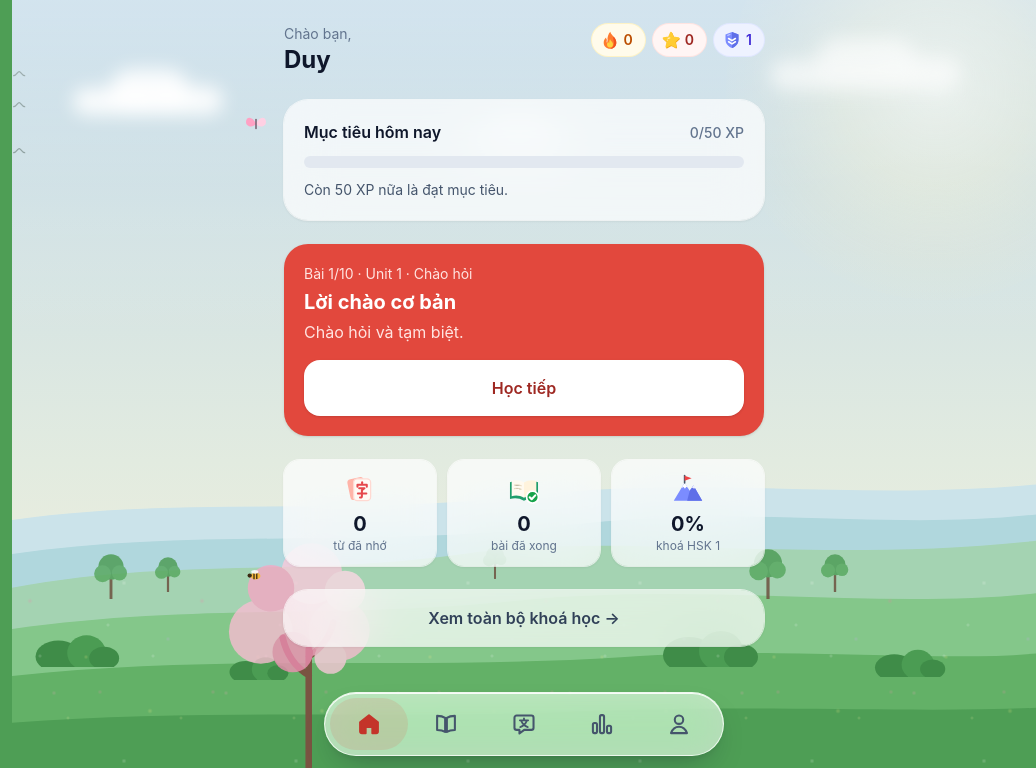
Scenario: BottomNav › bấm sang mục khác thì bong bóng trượt theo
This screenshot has width=1036, height=768.
Click the link named "Cá nhân" at (679, 724), box [666,711,692,737]
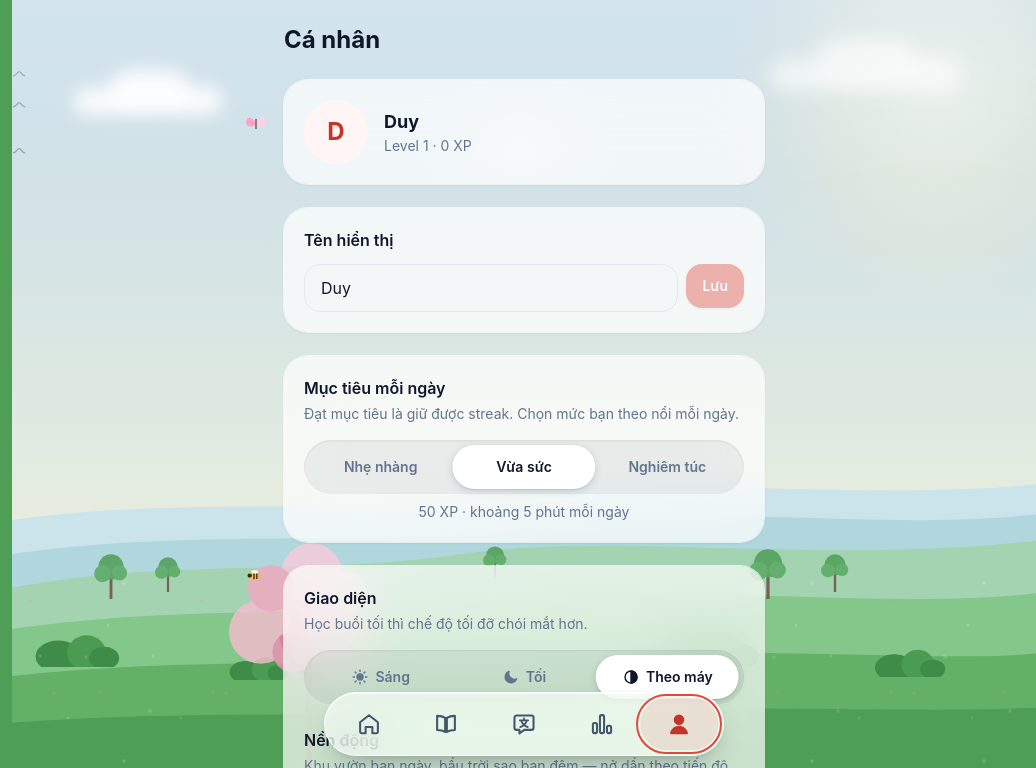
Check: the heading "Cá nhân" is shown, box [284,25,380,54]
